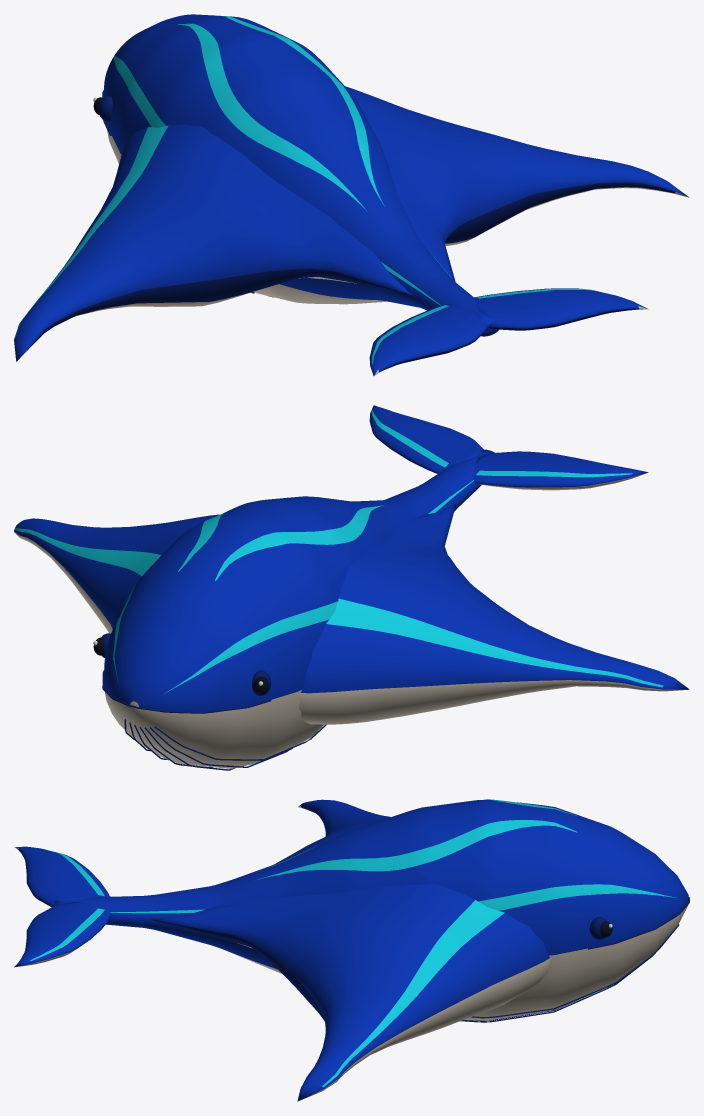
3 views of the same model, one above another, from view 1: azimuth 30°, elevation 25°; view 2: azimuth 150°, elevation 25°; view 3: azimuth 270°, elevation 25° (orthographic). The views are drawn at different scales.
Size of the model in its own units: 2.06 by 0.6771 by 2.
